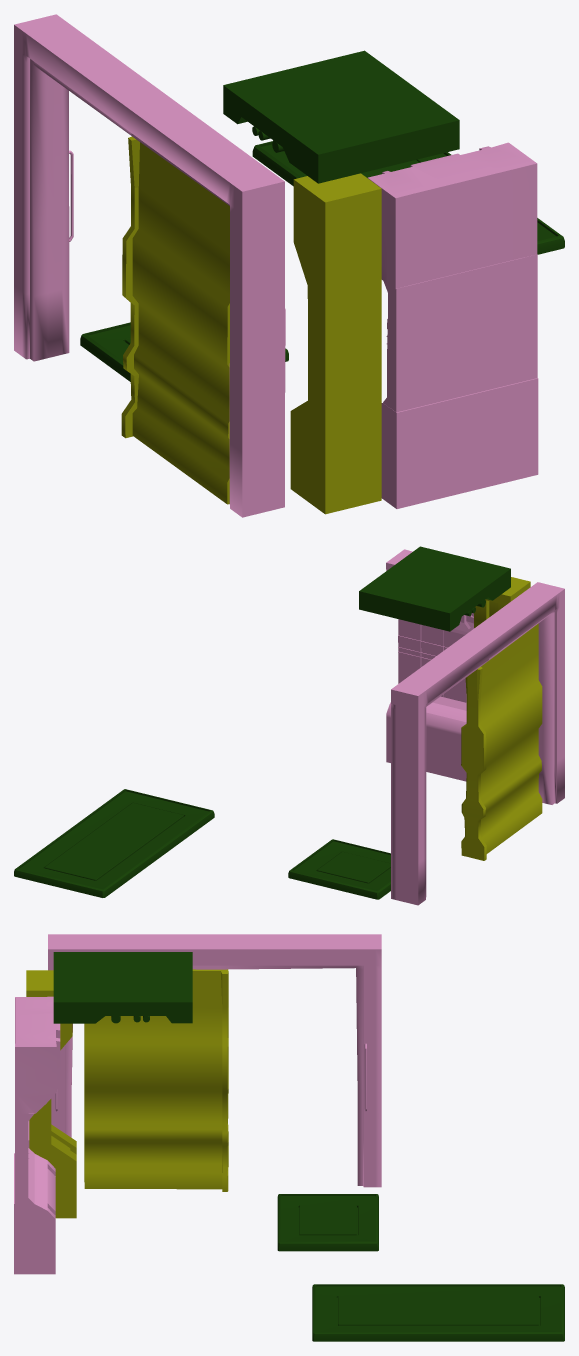
The model's file is pasillo.FBX.
The picture shows the model from 3 angles, top to bottom: view 1: azimuth 30°, elevation 25°; view 2: azimuth 150°, elevation 25°; view 3: azimuth 270°, elevation 25°; orthographic projection. The views are drawn at different scales.
Visible parts, largest first — view 1: Marco de puerta low poly, puerta low poly, columna low poly, techo low poly, pared intermedia low poly, modulo superior low poly, pared inferior low poly, suelo largo, suelo cuadrado; view 2: Marco de puerta low poly, puerta low poly, suelo largo, techo low poly, suelo cuadrado, pared inferior low poly, pared intermedia low poly, columna low poly, modulo superior low poly; view 3: puerta low poly, Marco de puerta low poly, suelo largo, techo low poly, suelo cuadrado, modulo superior low poly, columna low poly, pared inferior low poly, pared intermedia low poly.
Part boxes in pixels (x1,y1,x2,y2): Marco de puerta low poly: (14,14,285,517); puerta low poly: (121,136,229,504); columna low poly: (290,173,381,514); techo low poly: (223,50,459,183); pared intermedia low poly: (383,254,537,412); modulo superior low poly: (368,142,537,289); pared inferior low poly: (381,378,538,508); suelo largo: (252,141,564,254); suelo cuadrado: (80,322,288,381); Marco de puerta low poly: (391,582,564,905); puerta low poly: (461,623,542,860); suelo largo: (14,789,214,897); techo low poly: (359,546,510,631); suelo cuadrado: (288,839,390,899); pared inferior low poly: (386,702,466,781); pared intermedia low poly: (398,619,468,710); columna low poly: (474,577,530,627); modulo superior low poly: (386,549,474,632); puerta low poly: (84,969,228,1191); Marco de puerta low poly: (48,934,381,1187); suelo largo: (312,1284,564,1341); techo low poly: (53,952,192,1023); suelo cuadrado: (277,1194,378,1251); modulo superior low poly: (15,996,60,1113); columna low poly: (26,970,76,1218); pared inferior low poly: (14,1153,55,1274); pared intermedia low poly: (15,1113,34,1203).
Bounding box in the file's own units: 3.57 × 2.36 × 4.62.
